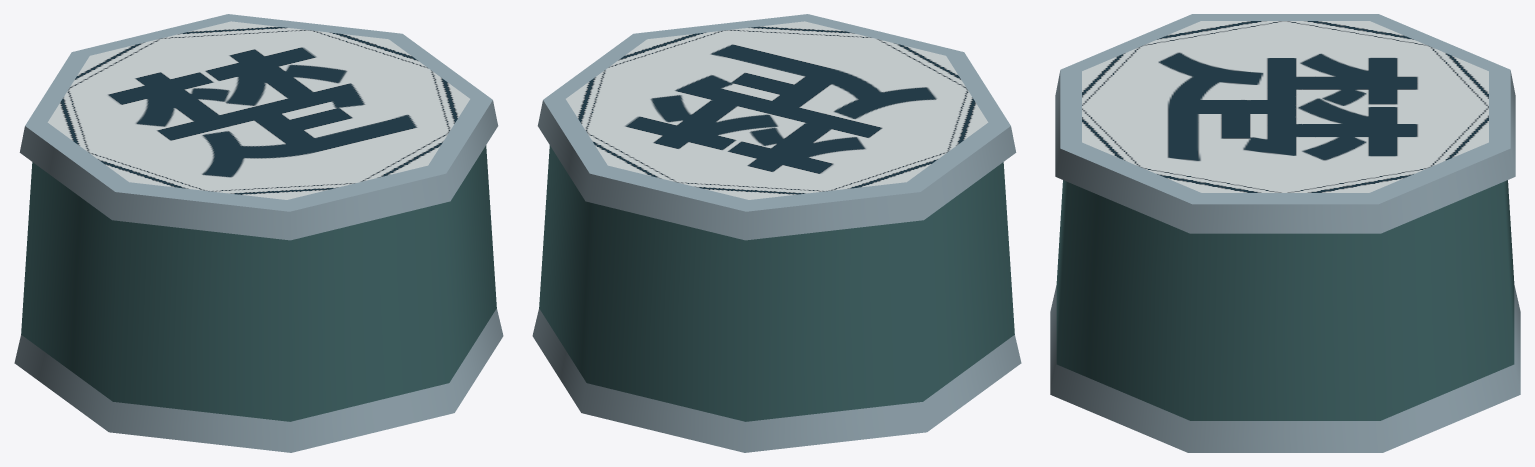
The model's file is Blue1.glb.
3 views of the same model, side by side, from view 1: azimuth 30°, elevation 25°; view 2: azimuth 150°, elevation 25°; view 3: azimuth 270°, elevation 25° (orthographic). The views are drawn at different scales.
Visible parts, largest first — view 1: Blue1; view 2: Blue1; view 3: Blue1.
Part boxes in pixels (bbox=[...]): Blue1: bbox=[14, 14, 503, 452]; Blue1: bbox=[532, 14, 1021, 452]; Blue1: bbox=[1050, 14, 1520, 452].
Size of the model in its own units: 0.8592 by 0.497 by 0.8592.
Materials: 3 (1 with a texture image).
